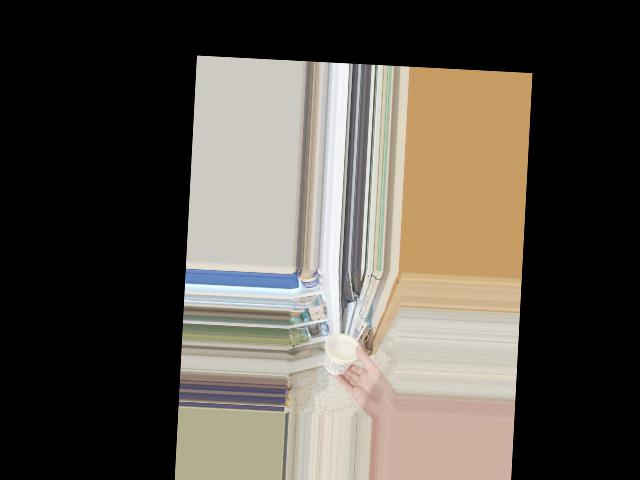cotage: (325, 338, 361, 374)
